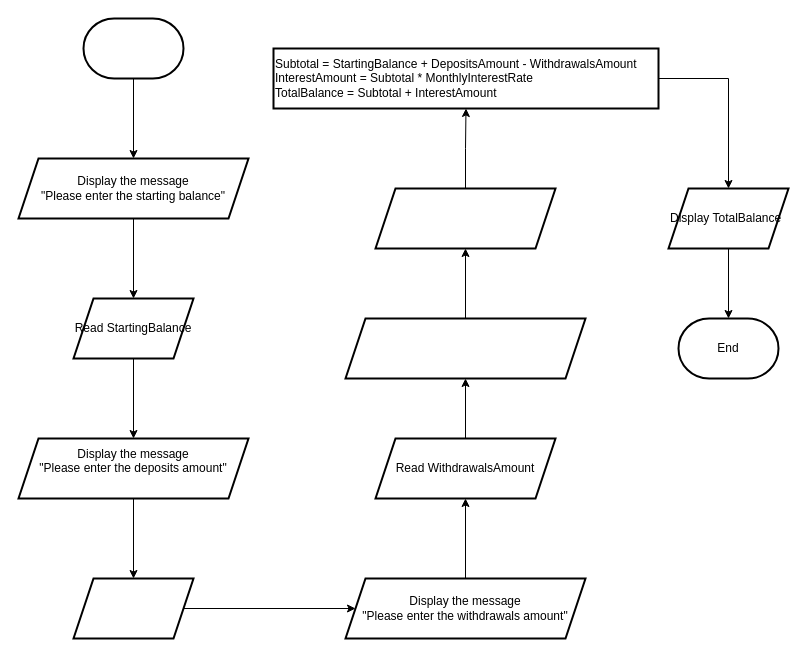
Image size: 806x656. Some labels were removed from this diagram. The centre of each missing label's shape, as x and y in pixels:
Display the message "Please enter the monthly interest rate": pixel 465 348
Read DepositsAmount: pixel 133 608
Read MonthlyInterestRate: pixel 465 218
Start: pixel 133 48
